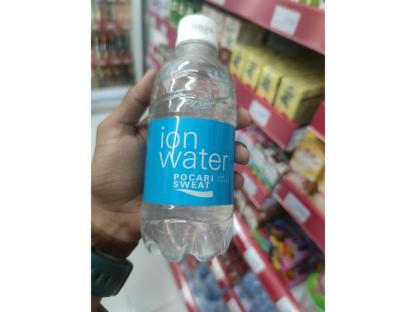Plastic Bottle: (132, 6, 264, 278)
